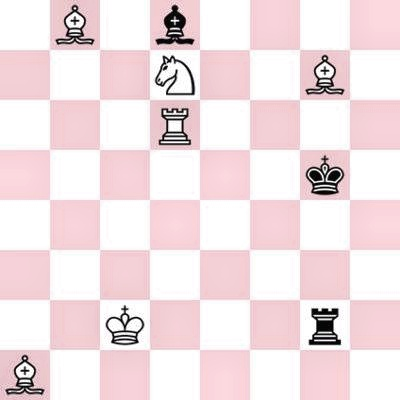black-bishop: (150, 0, 200, 50)
black-king: (300, 150, 350, 200)
black-rook: (300, 300, 350, 350)
white-bishop: (50, 0, 100, 50), (300, 50, 350, 100), (0, 350, 50, 400)
white-king: (100, 300, 150, 350)
white-knight: (150, 50, 200, 100)
white-rook: (150, 100, 200, 150)
